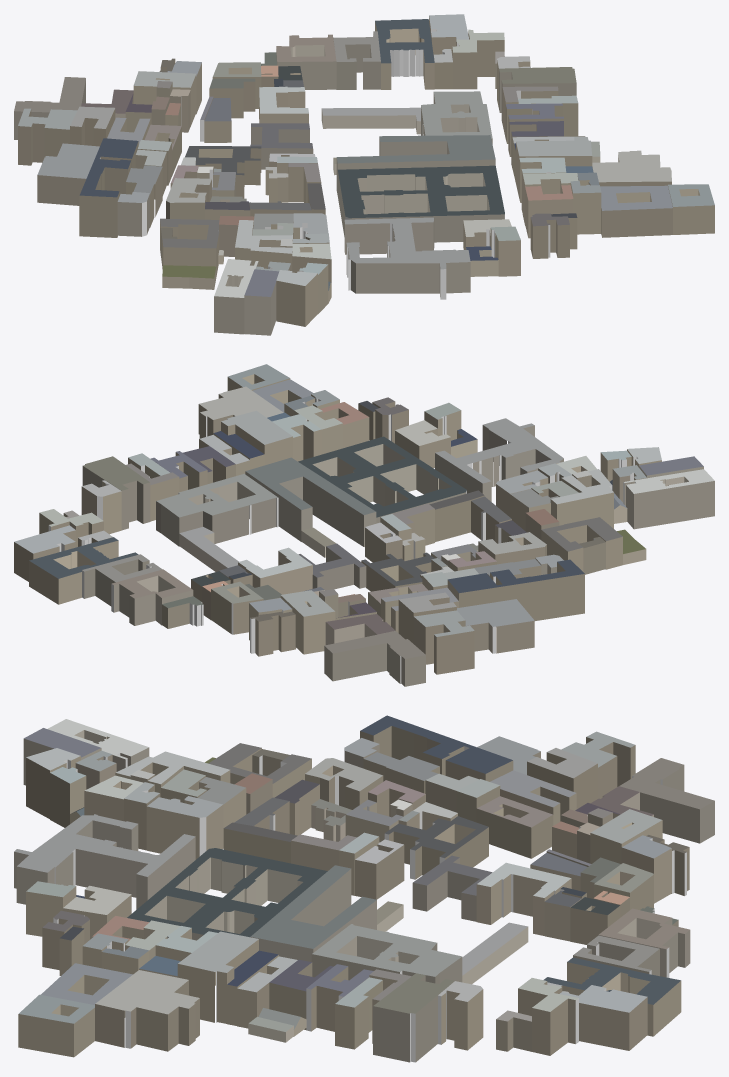
The picture shows the model from 3 angles, top to bottom: view 1: azimuth 30°, elevation 25°; view 2: azimuth 150°, elevation 25°; view 3: azimuth 270°, elevation 25°; orthographic projection. The views are drawn at different scales.
Visible parts, largest first — view 1: tuile; view 2: tuile; view 3: tuile.
Part boxes in pixels (x1=…): tuile: x1=14, y1=14, x2=714, y2=335; tuile: x1=14, y1=364, x2=714, y2=686; tuile: x1=14, y1=715, x2=714, y2=1062.
Size of the model in its own units: 282 by 25.36 by 283.
